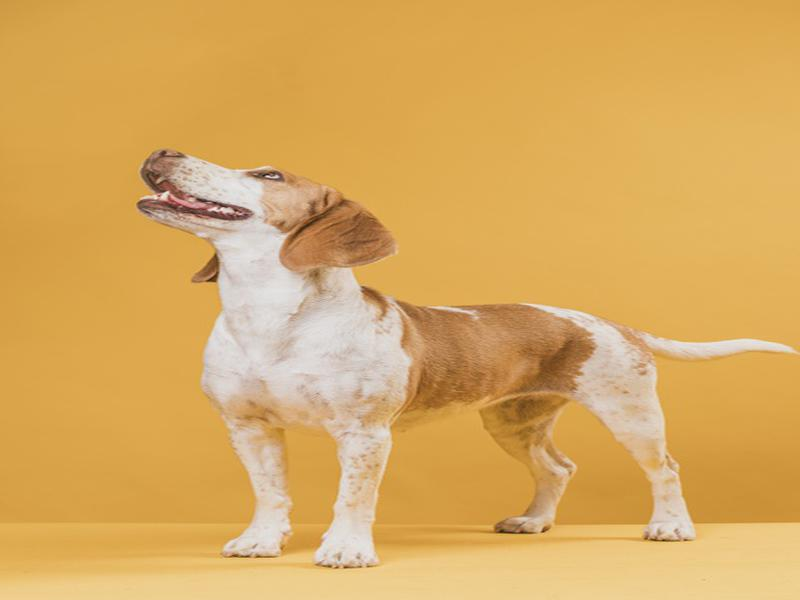dog_stand: (135, 144, 799, 573)
